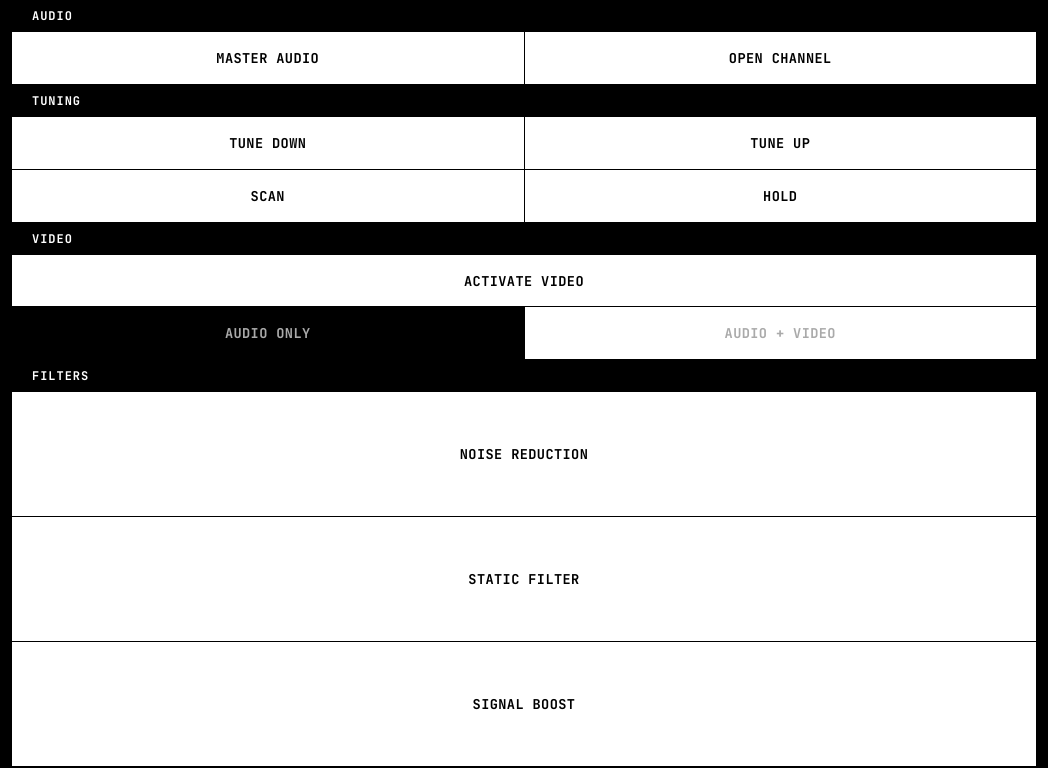
Scenario: CommsManualPanel › scans to the next frequency and disables tuning while holding
The width and height of the screenshot is (1048, 768).
Step 1. Click the button "Scan" → (268, 196), box [12,170,524,222]
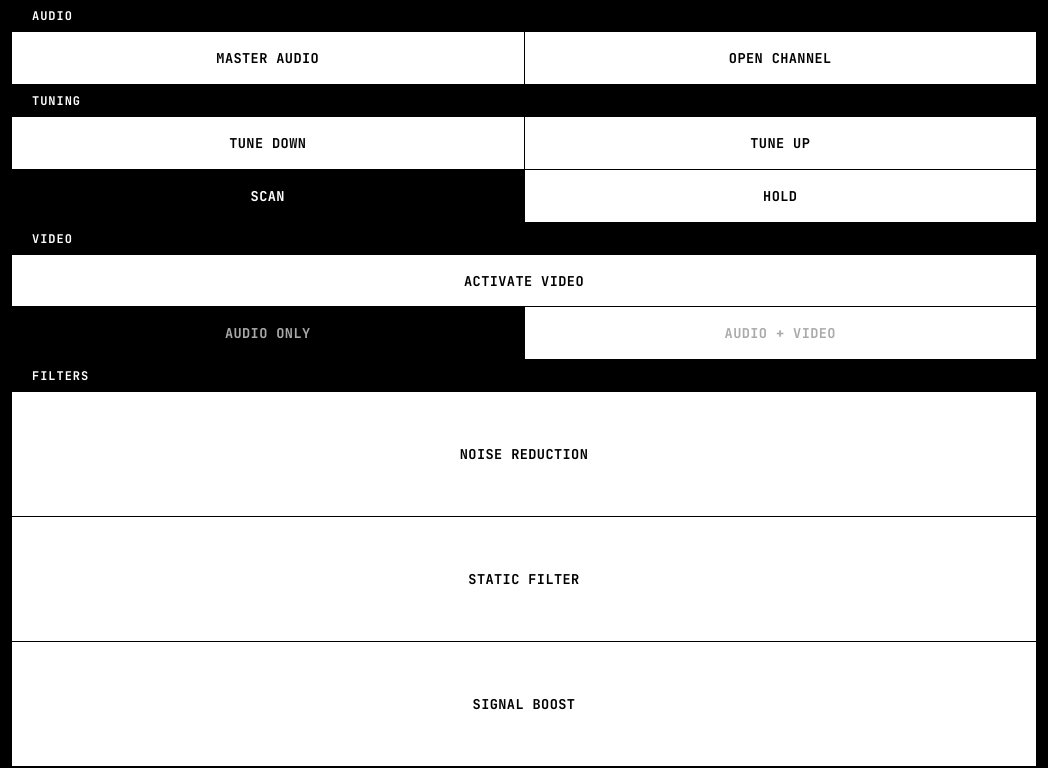
Step 2. Click the button "Hold" → (780, 196), box [524,170,1036,222]
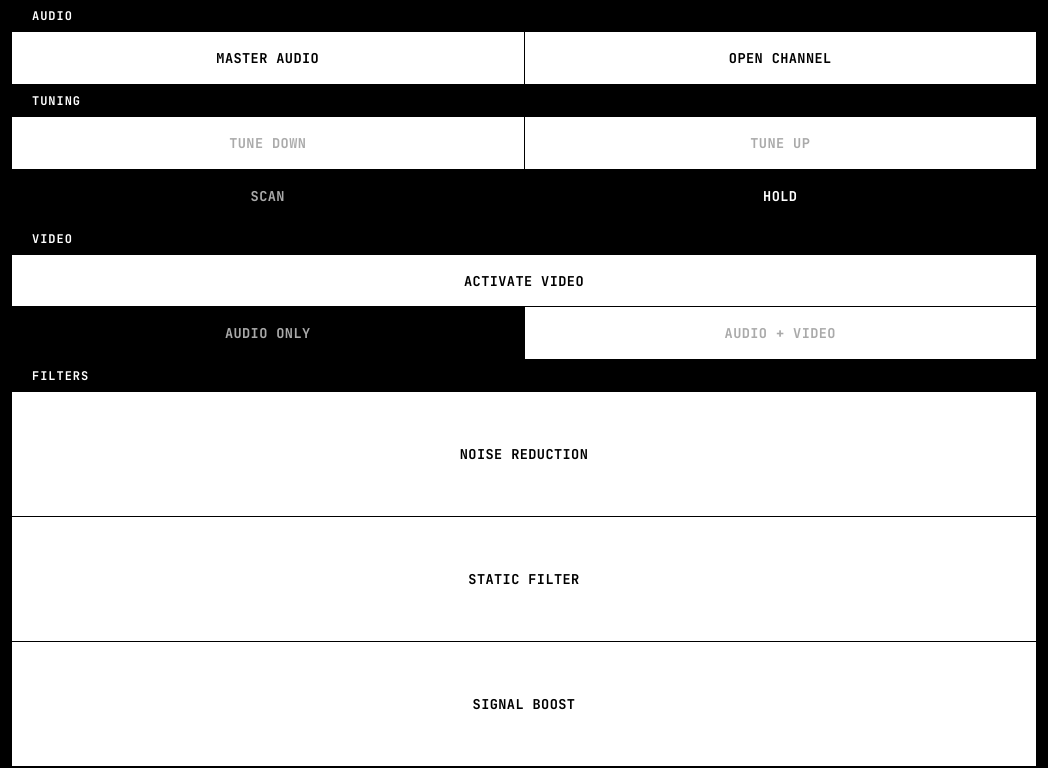
Result: the button "Tune Up" is disabled at [524,117,1036,169]
Result: the button "Scan" is disabled at [12,170,524,222]
